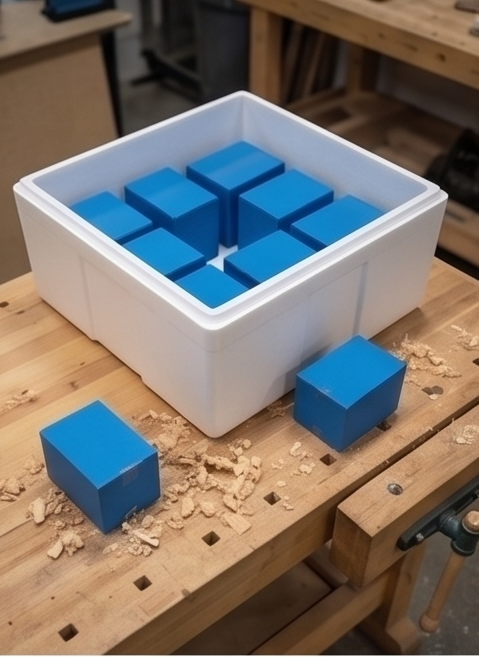blue_box: (37, 398, 159, 535), (292, 335, 406, 450), (184, 140, 285, 247), (122, 167, 218, 264), (237, 169, 331, 248), (222, 228, 316, 289), (291, 192, 386, 252), (63, 192, 155, 247), (117, 226, 201, 284), (169, 262, 249, 311)
container_box: (15, 88, 447, 443)
